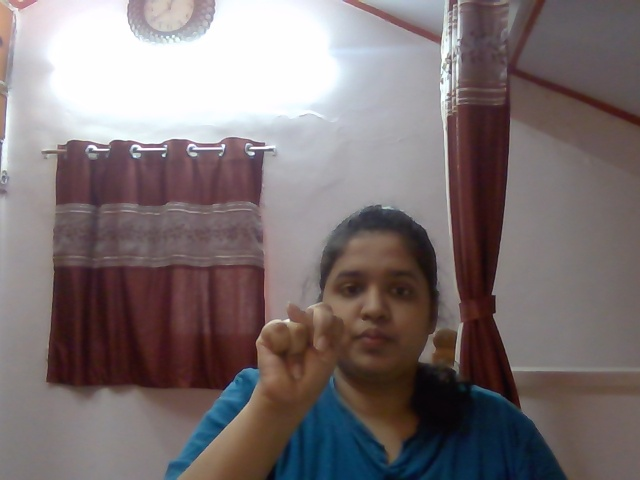n: (254, 302, 349, 406)
